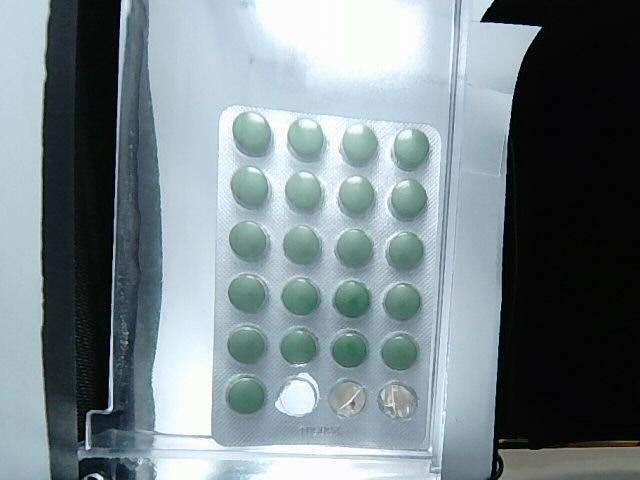Light Front: (213, 106, 440, 450)
No Pill Front: (275, 373, 318, 417), (328, 379, 368, 417), (378, 383, 418, 419)
Pill Front: (233, 111, 274, 156), (230, 166, 270, 208), (288, 118, 326, 161), (389, 179, 427, 220), (229, 221, 270, 259), (393, 128, 430, 169), (285, 173, 323, 212), (338, 175, 375, 215), (341, 124, 377, 165), (228, 275, 269, 311), (281, 278, 321, 314), (228, 326, 268, 362), (284, 225, 321, 263), (280, 328, 318, 365), (335, 230, 373, 266), (386, 233, 423, 269), (384, 283, 421, 319), (334, 280, 371, 316), (331, 330, 368, 366), (381, 334, 418, 369), (228, 378, 265, 413)
